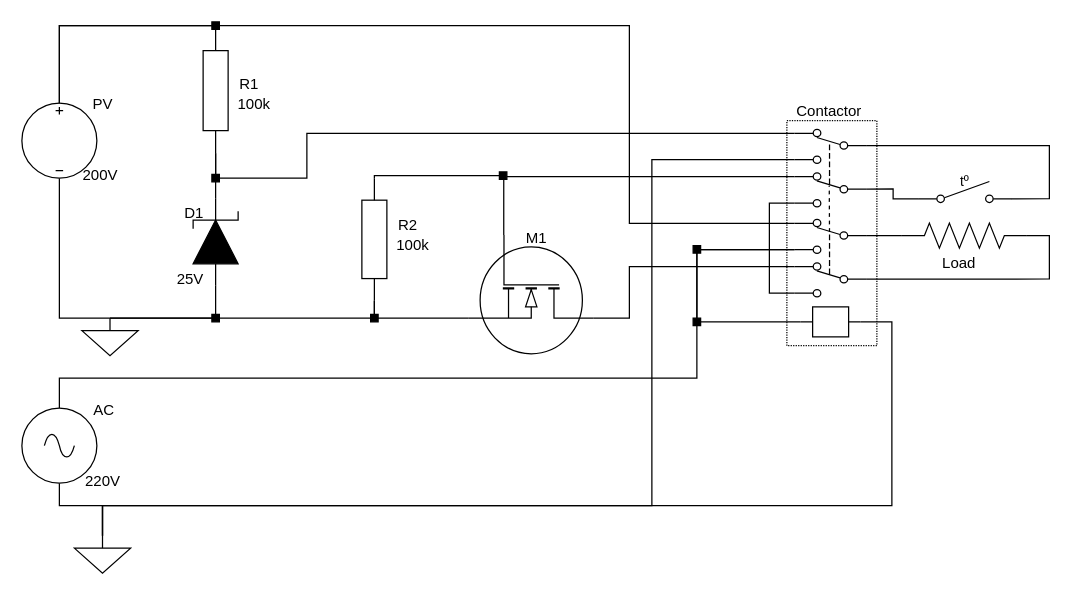
This 1073x595 diagram has some shape labels left out. The box of each missing label's shape, as (x1, y1, x2, y2) in pixels:
Coil: (799, 306, 861, 337)
Thermostat: (917, 175, 1012, 202)
